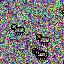sheep: (35, 33, 50, 45), (11, 24, 25, 35)
